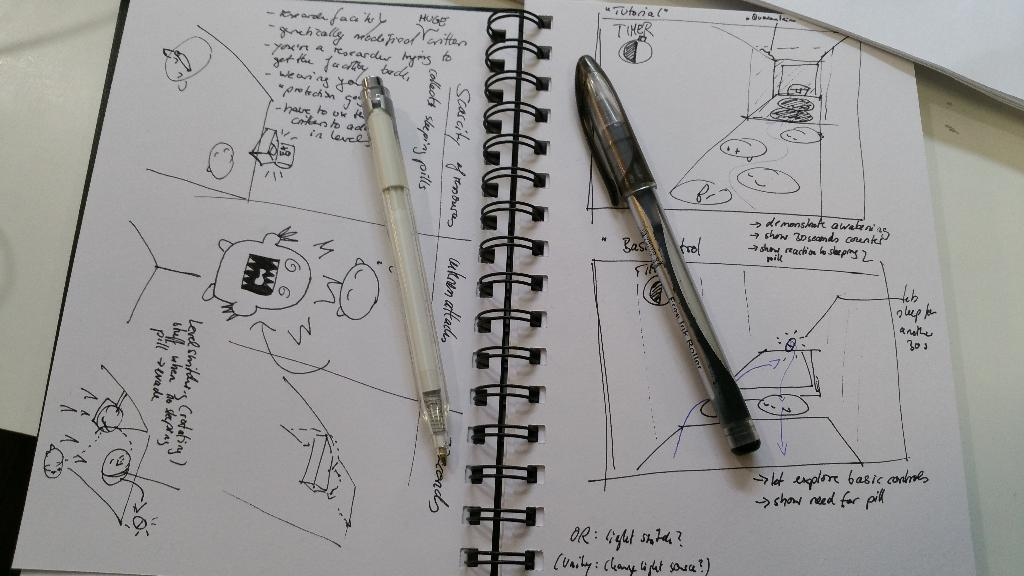pen: (566, 49, 771, 461), (356, 74, 461, 467)
